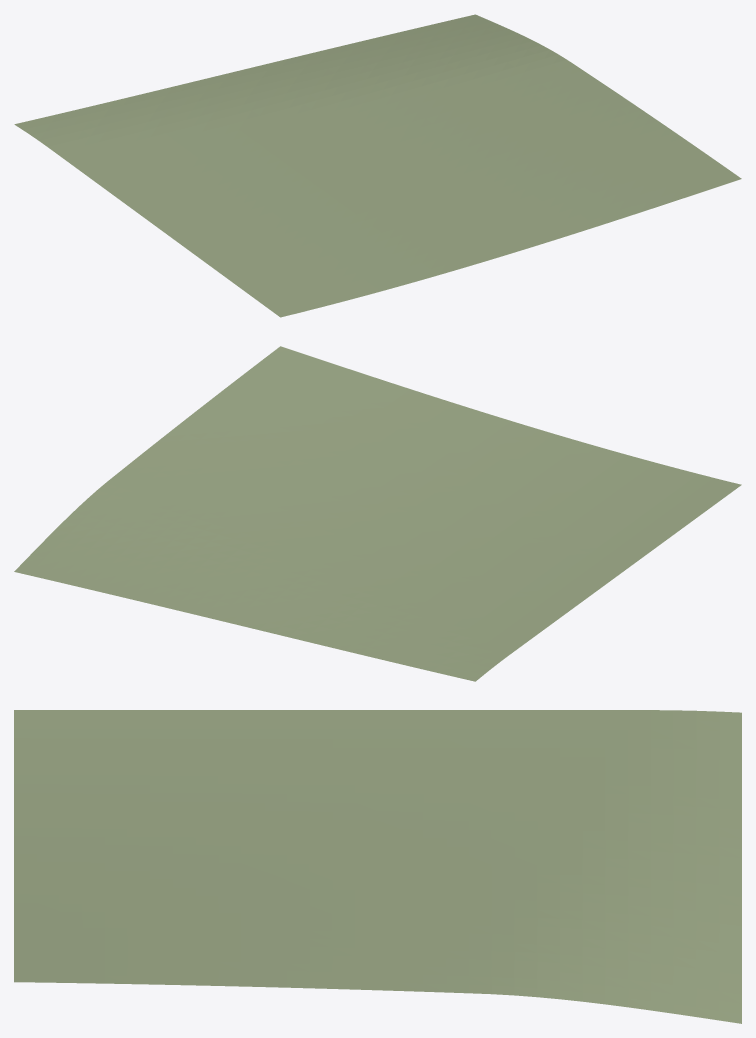
Rendered from valley-0-9.glb.
3 views of the same model, one above another, from view 1: azimuth 30°, elevation 25°; view 2: azimuth 150°, elevation 25°; view 3: azimuth 270°, elevation 25° (orthographic). The views are drawn at different scales.
Visible parts, largest first — view 1: valley-0-9; view 2: valley-0-9; view 3: valley-0-9.
Boxes of the visible parts, x1,y1,x2,y2 form: valley-0-9: (14, 14, 741, 317); valley-0-9: (14, 346, 741, 681); valley-0-9: (14, 710, 741, 1023).
Size of the model in its own units: 256 by 16.21 by 256.
